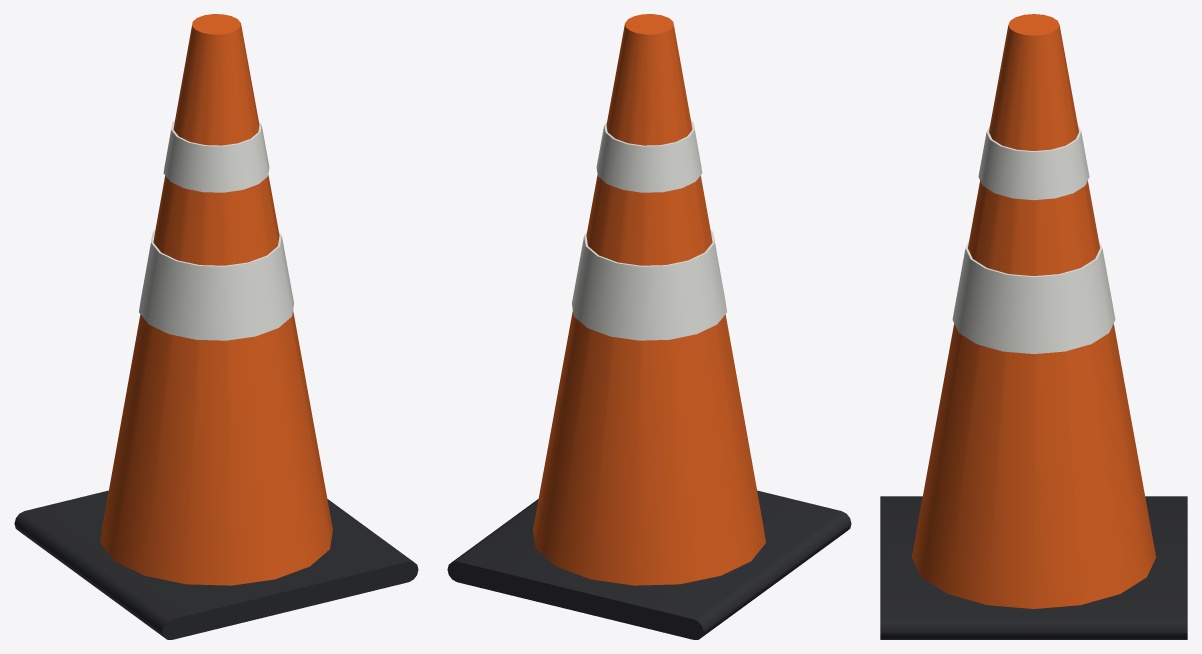
The picture shows the model from 3 angles, left to right: view 1: azimuth 30°, elevation 25°; view 2: azimuth 150°, elevation 25°; view 3: azimuth 270°, elevation 25°; orthographic projection. The views are drawn at different scales.
Visible parts, largest first — view 1: cone; view 2: cone; view 3: cone.
Boxes of the visible parts, bbox=[...] form: cone: bbox=[14, 14, 418, 639]; cone: bbox=[447, 14, 851, 639]; cone: bbox=[880, 14, 1187, 639].
Bounding box in the file's own units: 1.56 × 3.1 × 1.56.
